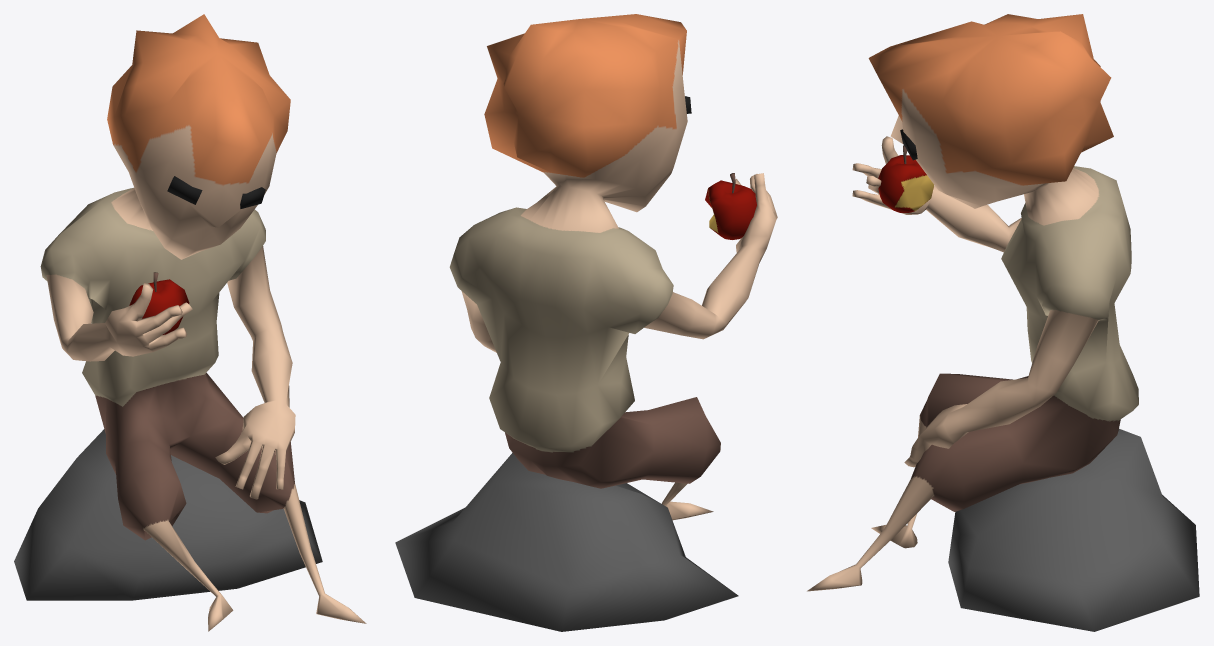
3 views of the same model, side by side, from view 1: azimuth 30°, elevation 25°; view 2: azimuth 150°, elevation 25°; view 3: azimuth 270°, elevation 25° (orthographic). The views are drawn at different scales.
Parts seen in each view (by area): view 1: children; view 2: children; view 3: children.
Part boxes in pixels (x1,y1,x2,y2): children: (14, 14, 366, 631); children: (395, 14, 777, 631); children: (807, 14, 1199, 631).
Bounding box in the file's own units: 0.6748 × 1.1 × 0.7253.
1 material, 1 textured.
